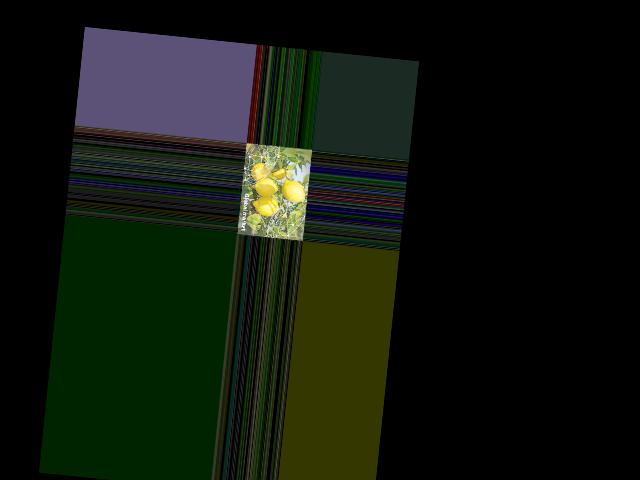lemon: (279, 178, 308, 204)
